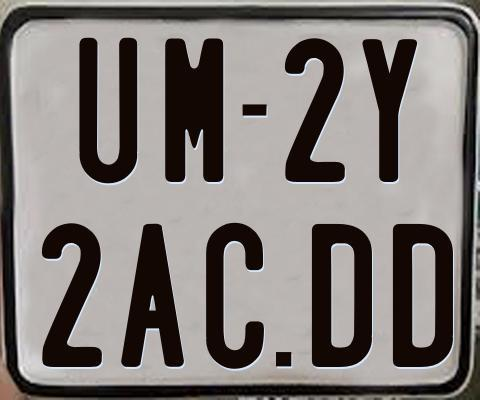2: (283, 35, 349, 185), (39, 221, 99, 370)
A: (121, 222, 189, 368)
C: (204, 223, 268, 374)
D: (393, 223, 459, 367), (312, 223, 376, 366)
M: (164, 37, 227, 184)
U: (77, 37, 137, 188)
Y: (362, 36, 418, 185)
